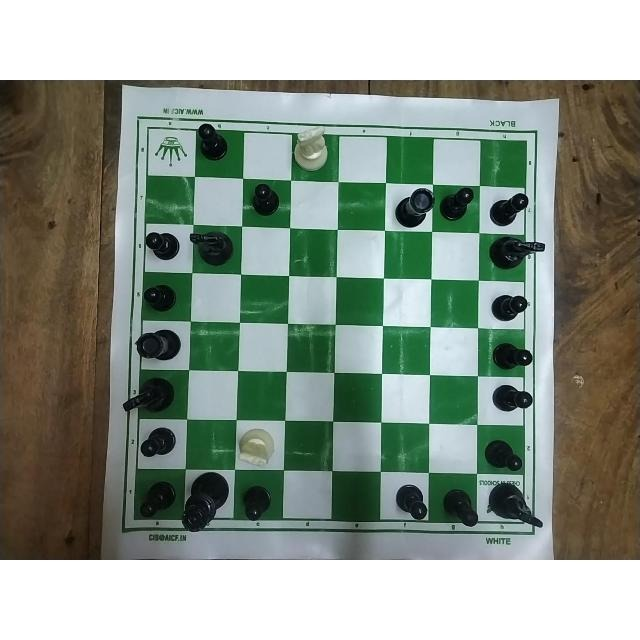black-knight: (488, 479, 545, 529), (123, 372, 181, 416), (488, 231, 548, 269), (188, 228, 236, 272)
black-pawn: (439, 486, 481, 530), (392, 476, 430, 524), (234, 480, 275, 522), (488, 191, 532, 228), (481, 434, 522, 473), (196, 120, 232, 164), (490, 380, 538, 413), (489, 340, 537, 372), (138, 482, 176, 518), (145, 226, 183, 260), (487, 293, 528, 323), (439, 186, 475, 220), (140, 425, 176, 458), (142, 283, 178, 315), (252, 181, 280, 217)
black-queen: (179, 468, 233, 535)
black-rook: (130, 322, 191, 364), (393, 185, 437, 229)
white-knight: (294, 124, 337, 174), (235, 426, 279, 468)
